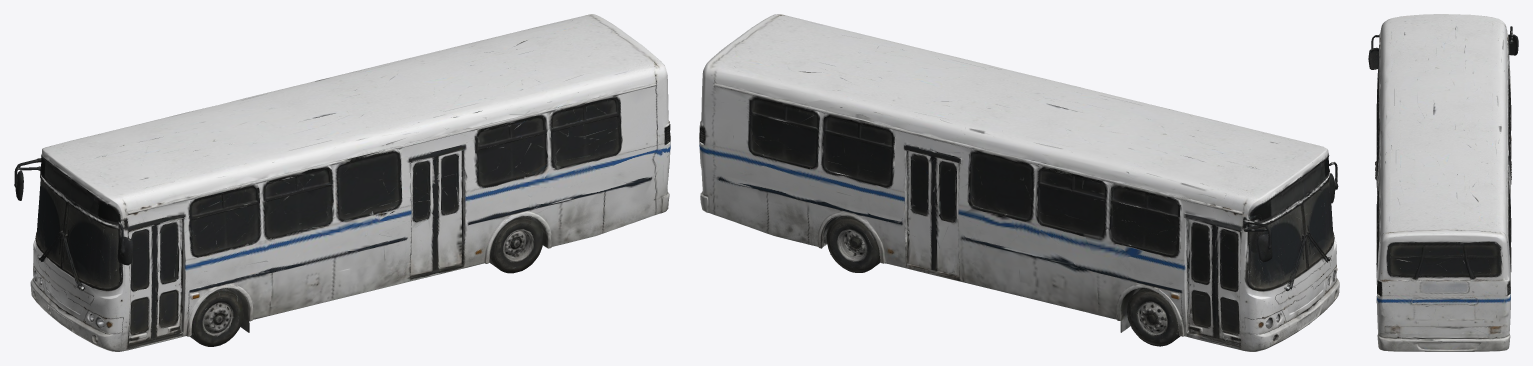
File: bus.glb
The picture shows the model from 3 angles, left to right: view 1: azimuth 30°, elevation 25°; view 2: azimuth 150°, elevation 25°; view 3: azimuth 270°, elevation 25°; orthographic projection. The views are drawn at different scales.
Bounding box in the file's own units: 1.9 × 0.5407 × 0.5322.
Materials: 1 (1 with a texture image).
